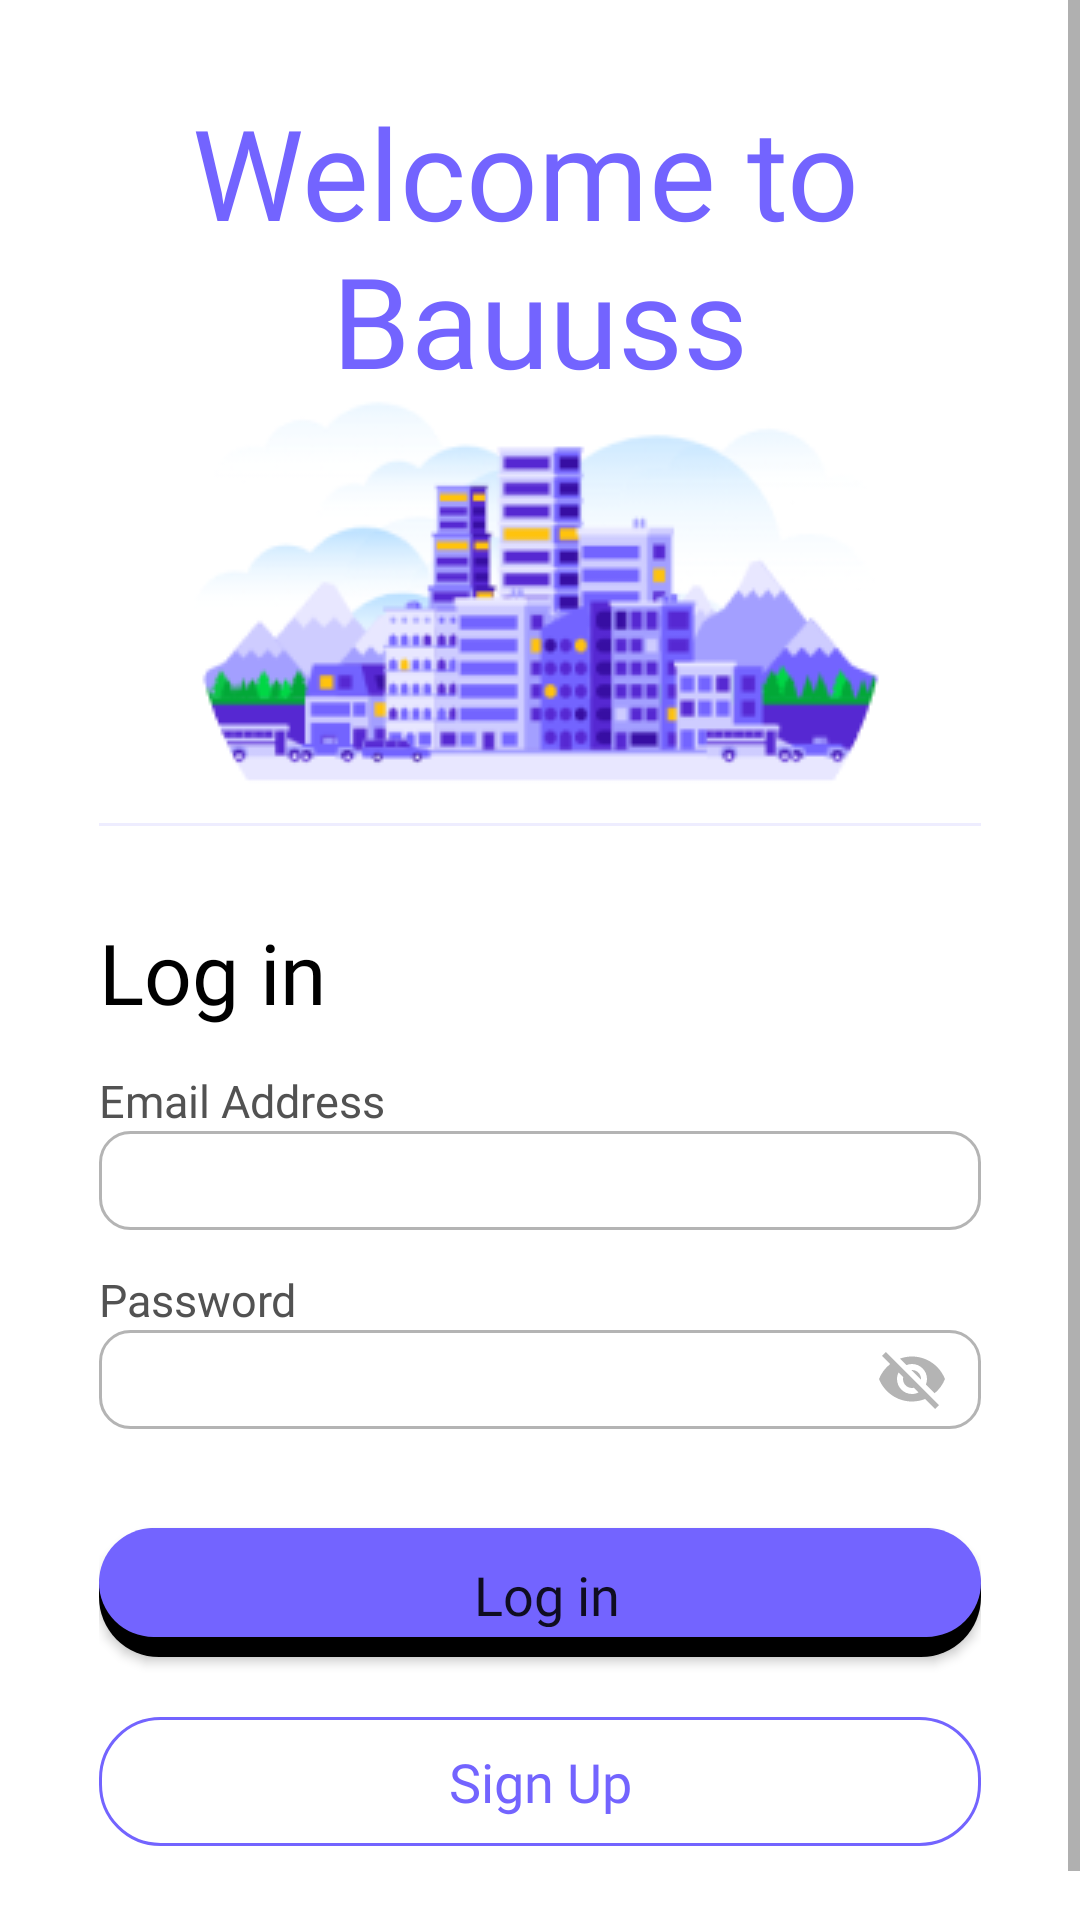

Where to tap for icons on this 1080×1920 app screen, as (x=x, y=y):
show password: (x=912, y=1380)
